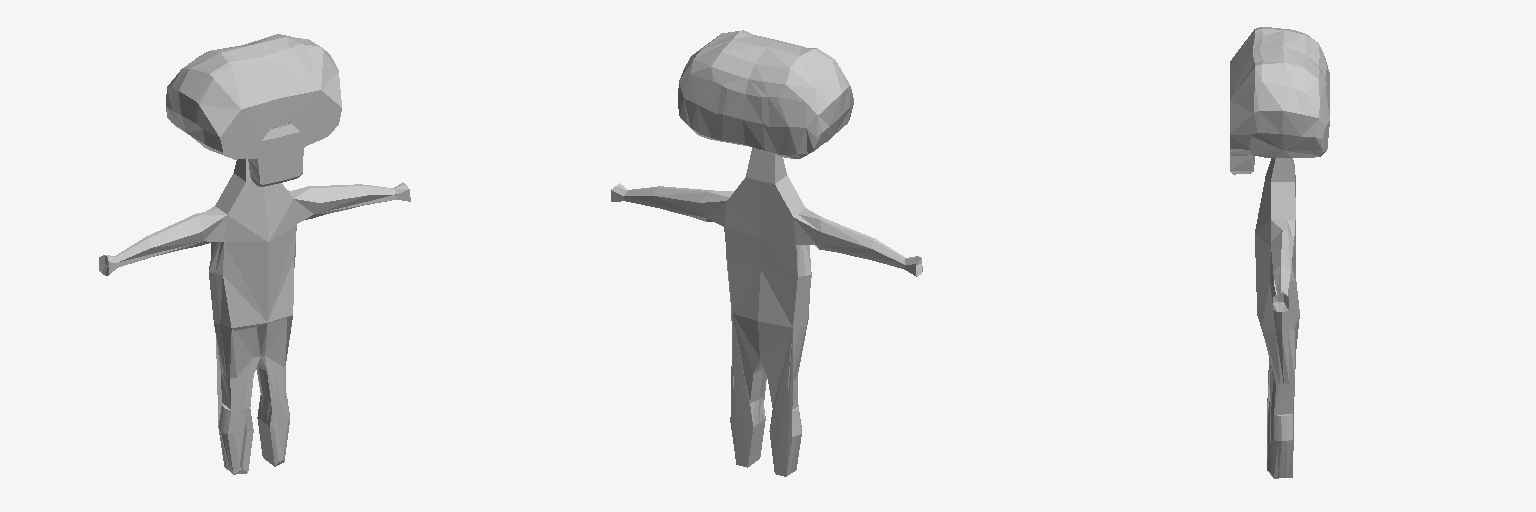
Rendered from model_Player.obj.
3 views of the same model, side by side, from view 1: azimuth 30°, elevation 25°; view 2: azimuth 150°, elevation 25°; view 3: azimuth 270°, elevation 25° (orthographic).
Parts seen in each view (by area): view 1: Plane; view 2: Plane; view 3: Plane.
Part boxes in pixels (x1,y1,x2,y2): Plane: (99, 34, 410, 474); Plane: (611, 30, 922, 476); Plane: (1230, 27, 1329, 478).
Bounding box in the file's own units: 6.95 × 9.15 × 1.99.